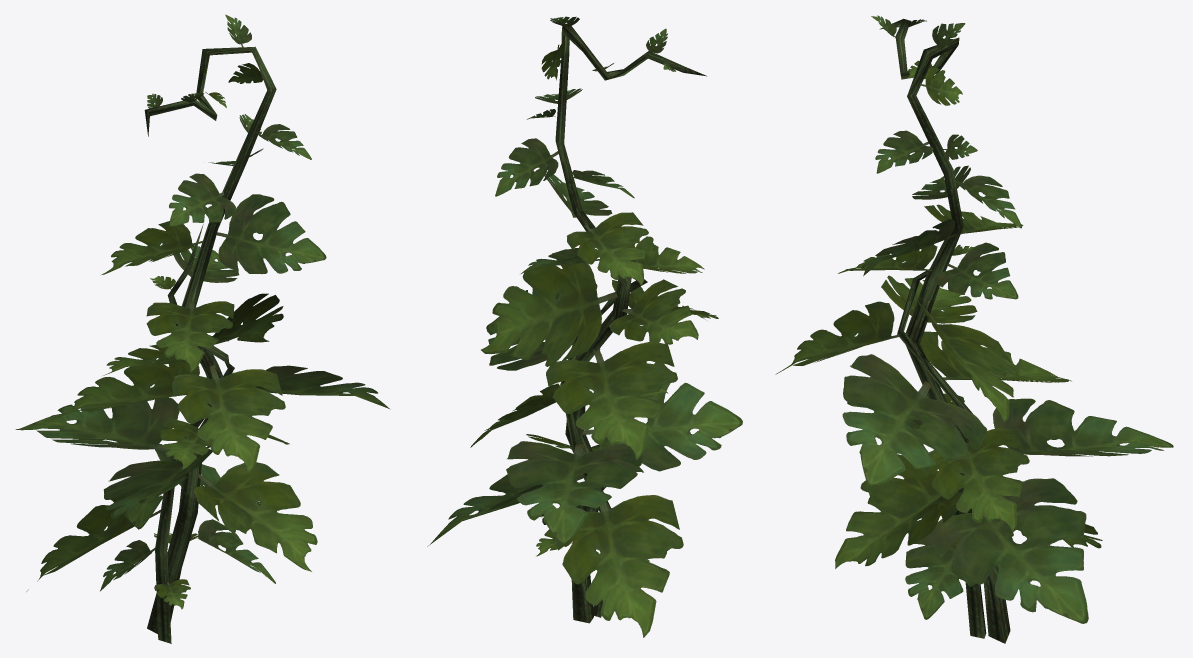
The model's file is environment_Tree_tengmanzhiwu_001_a.FBX.
The picture shows the model from 3 angles, left to right: view 1: azimuth 30°, elevation 25°; view 2: azimuth 150°, elevation 25°; view 3: azimuth 270°, elevation 25°; orthographic projection. The views are drawn at different scales.
Visible parts, largest first — view 1: environment_Tree_tengmanzhiwu_001_a, environment_Tree_tengmanzhiwu_001_b; view 2: environment_Tree_tengmanzhiwu_001_a, environment_Tree_tengmanzhiwu_001_b; view 3: environment_Tree_tengmanzhiwu_001_a, environment_Tree_tengmanzhiwu_001_b.
Boxes of the visible parts, box(x1,y1,x2,y2) form: environment_Tree_tengmanzhiwu_001_a: box(15, 14, 390, 609); environment_Tree_tengmanzhiwu_001_b: box(144, 46, 276, 643); environment_Tree_tengmanzhiwu_001_a: box(427, 16, 742, 637); environment_Tree_tengmanzhiwu_001_b: box(555, 23, 706, 623); environment_Tree_tengmanzhiwu_001_a: box(775, 15, 1173, 623); environment_Tree_tengmanzhiwu_001_b: box(879, 18, 1010, 643).
Size of the model in its own units: 125 by 257 by 147.
2 materials, 2 textured.
